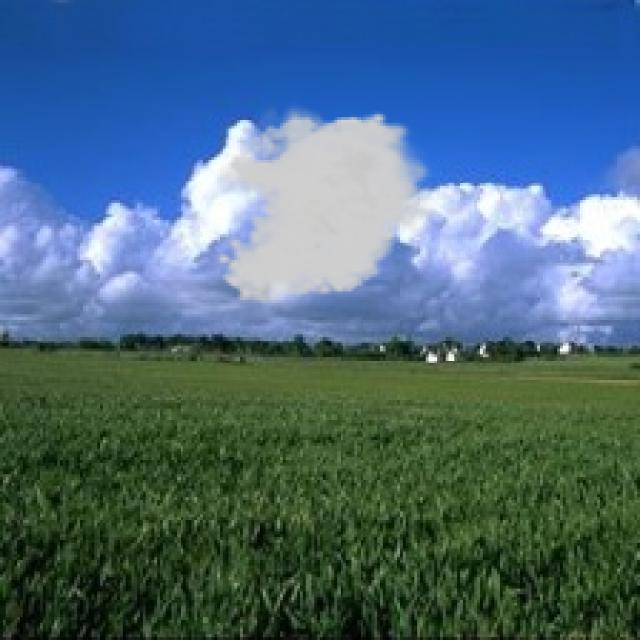Smoke: (215, 100, 440, 306)
